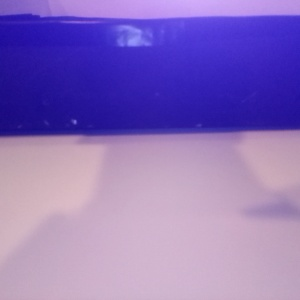alive_ball: (205, 5, 240, 41)
